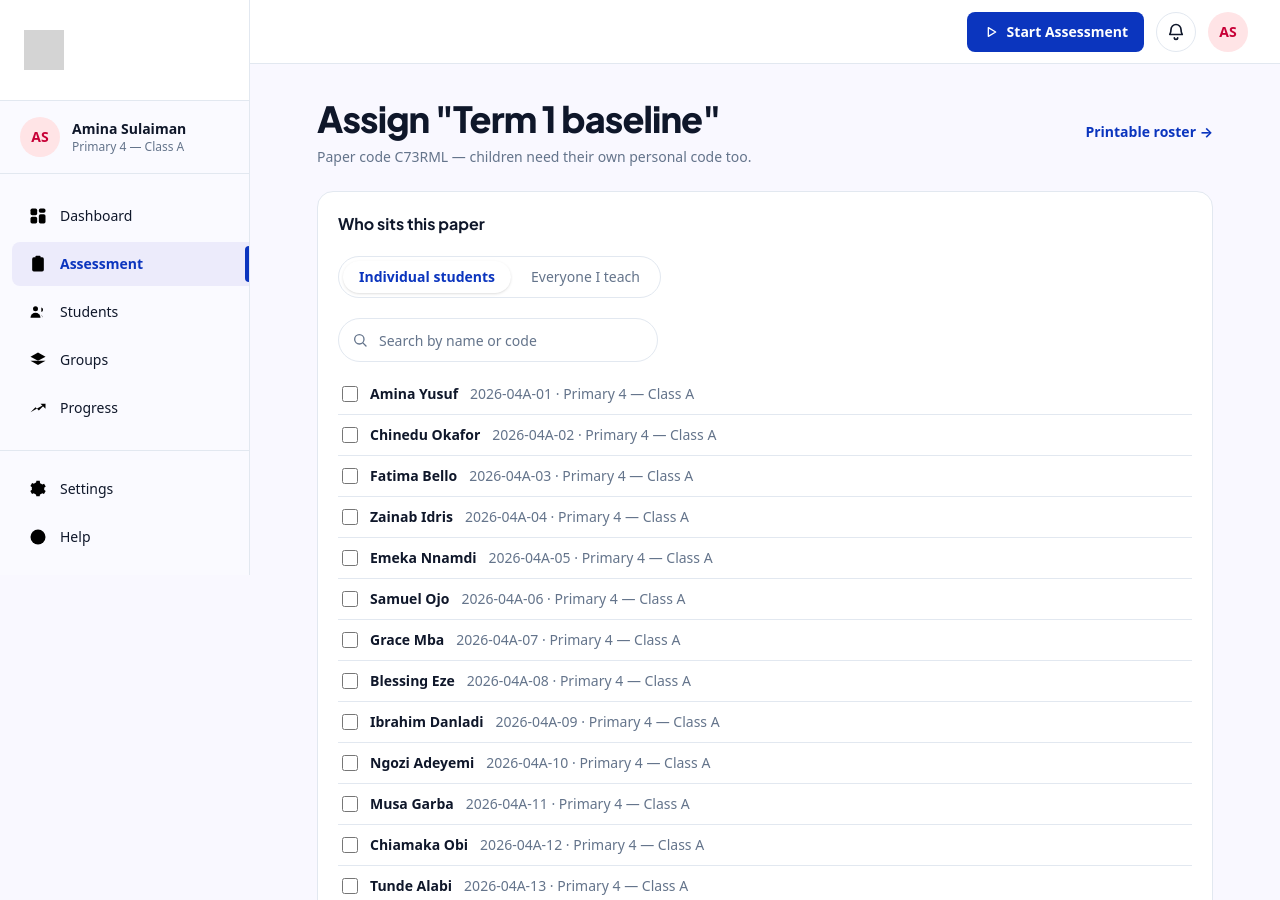
Scenario: AssignAssessmentPage › assigns everyone the teacher teaches and lists the assigned children
Click the radio button labelled "Everyone I teach".
click(585, 277)  # box [515,261,656,293]
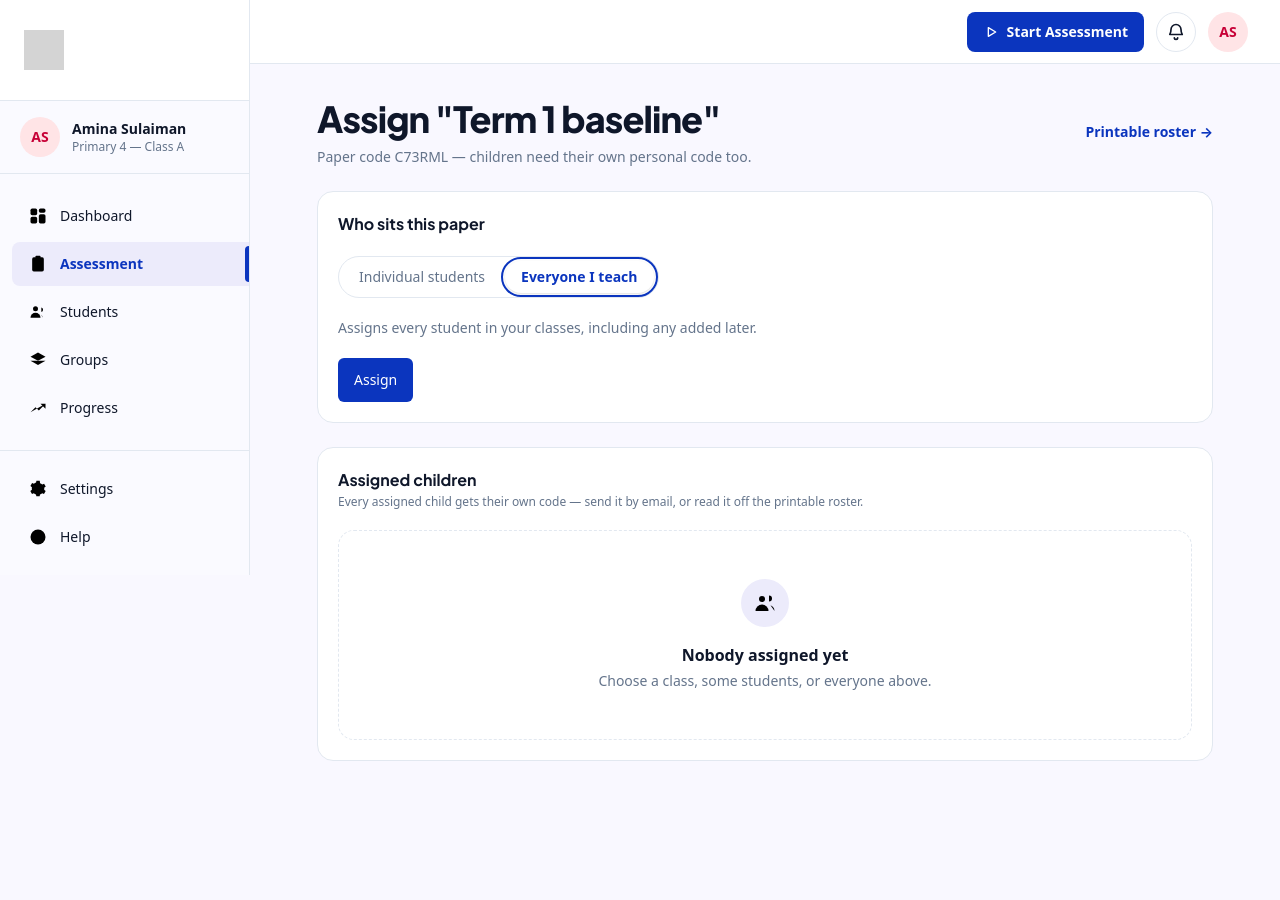
Click the button "Assign".
click(376, 380)  # box [338,358,413,402]
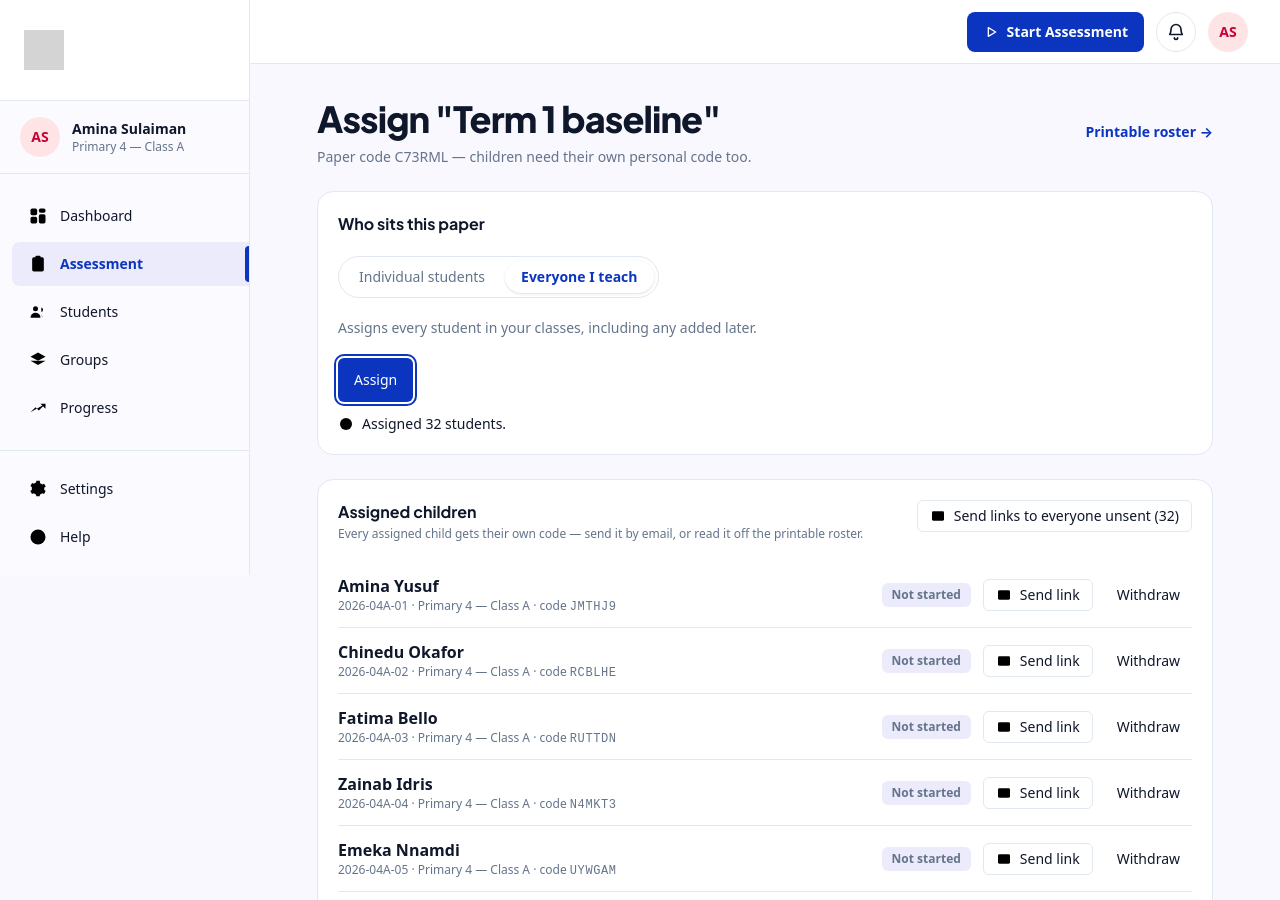
Expected: the text "Assigned 32 students." is shown, [338,414,506,433]
Expected: the text "Amina Yusuf" is shown, [338,575,439,597]
